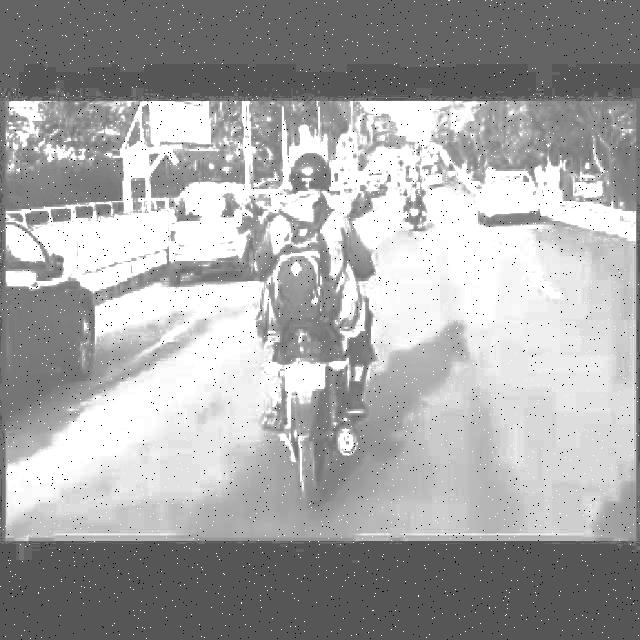Car: (8, 211, 108, 400), (160, 185, 264, 283), (473, 158, 545, 227)
